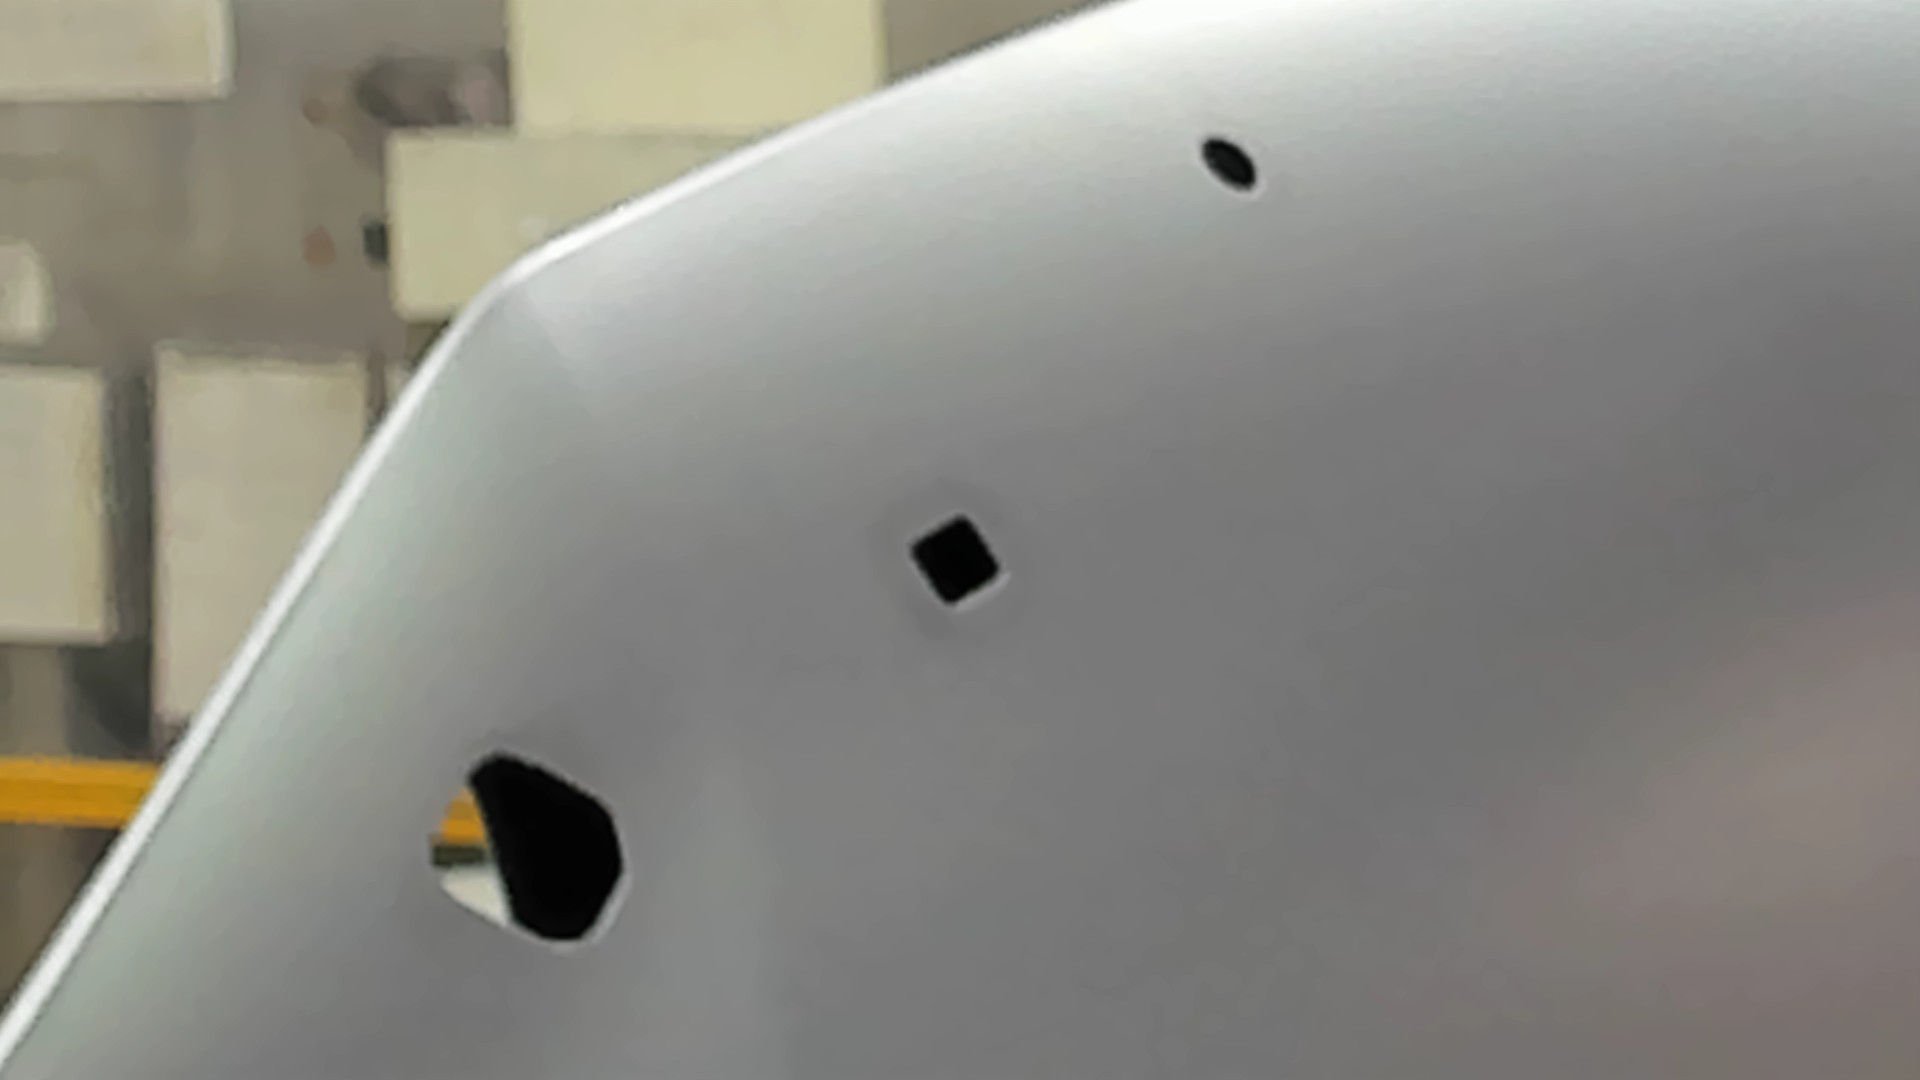chico: (1196, 135, 1263, 196)
grande: (427, 752, 633, 956)
mediano: (907, 512, 1007, 611)
